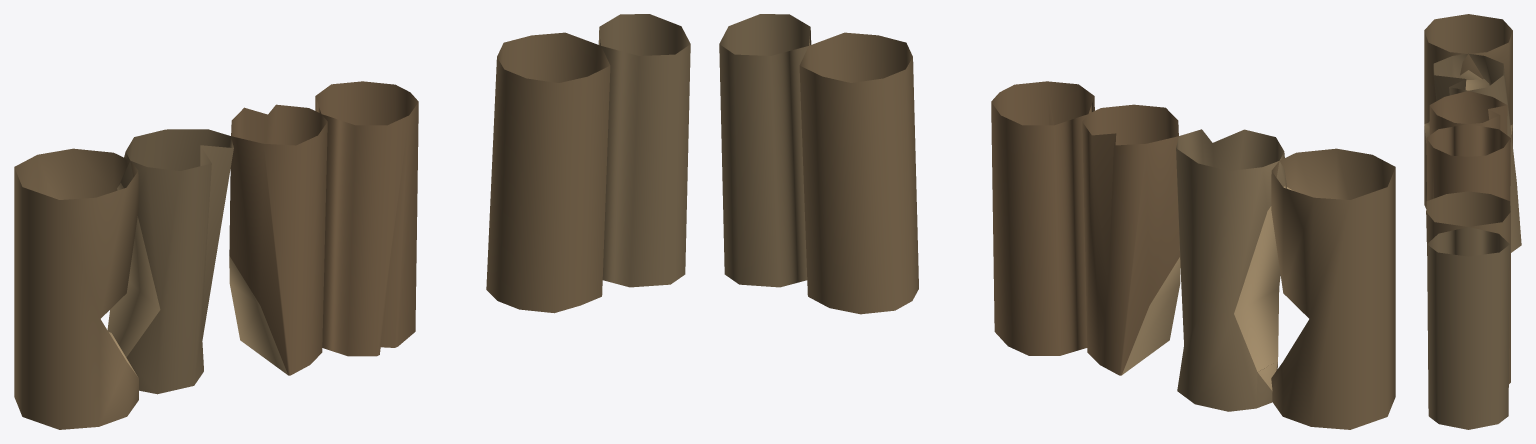
Rendered from rpgpp_av_wall_04_3x1_c.fbx.
3 renders of one model, left to right at view 1: azimuth 30°, elevation 25°; view 2: azimuth 150°, elevation 25°; view 3: azimuth 270°, elevation 25°, orthographic. The views are drawn at different scales.
Parts seen in each view (by area): view 1: rpgpp_av_wall_04_3x1_c; view 2: rpgpp_av_wall_04_3x1_c; view 3: rpgpp_av_wall_04_3x1_c.
Boxes of the visible parts, box(x1,y1,x2,y2) form: rpgpp_av_wall_04_3x1_c: box(14, 14, 690, 429); rpgpp_av_wall_04_3x1_c: box(719, 14, 1395, 429); rpgpp_av_wall_04_3x1_c: box(1424, 14, 1521, 429).
Bounding box in the file's own units: 3 × 1 × 0.5089.
